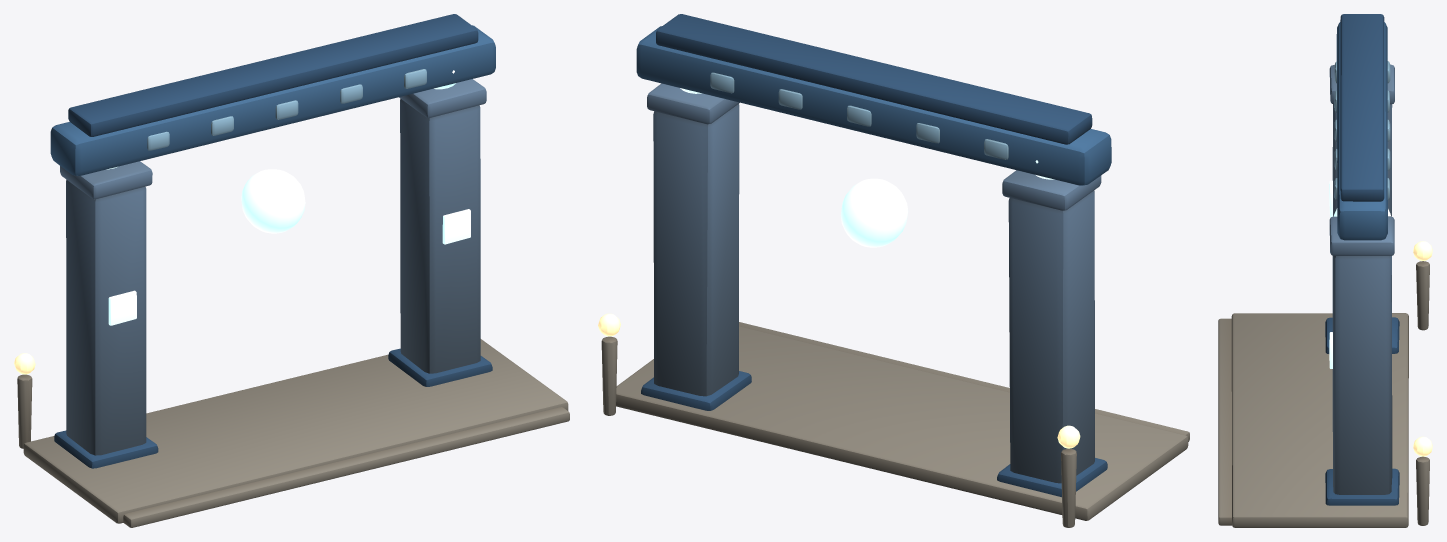
3 views of the same model, side by side, from view 1: azimuth 30°, elevation 25°; view 2: azimuth 150°, elevation 25°; view 3: azimuth 270°, elevation 25° (orthographic). The views are drawn at different scales.
Parts seen in each view (by area): view 1: gate_68a3c228; view 2: gate_68a3c228; view 3: gate_68a3c228.
Part boxes in pixels (x1,y1,x2,y2): gate_68a3c228: (14,14,569,527); gate_68a3c228: (598,14,1189,527); gate_68a3c228: (1218,14,1432,527).
Bounding box in the file's own units: 5.76 × 4.28 × 2.55.
